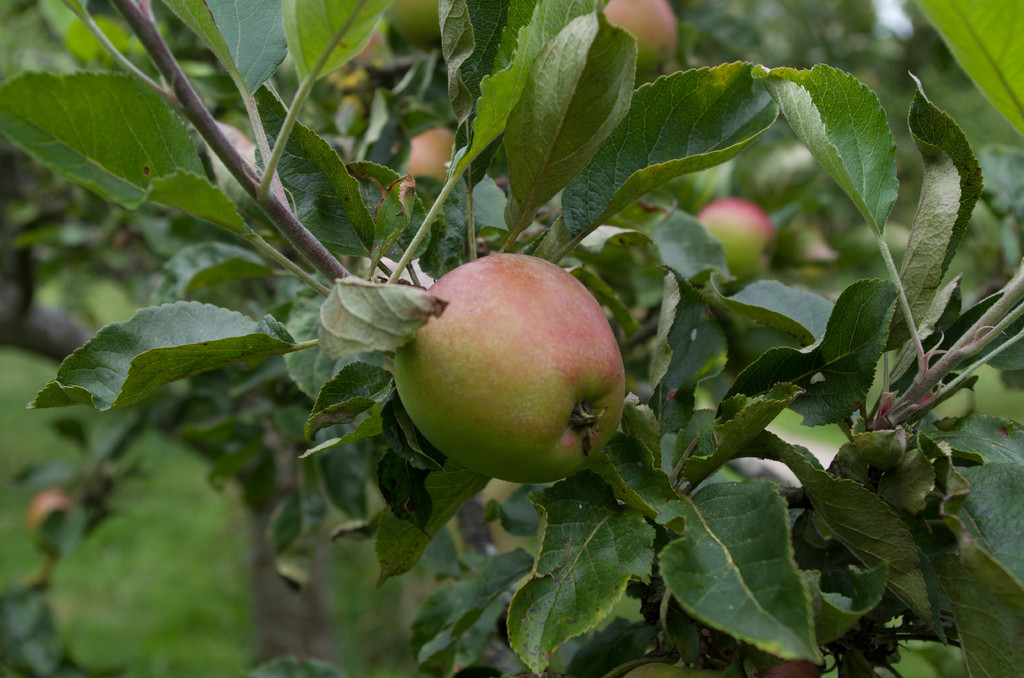Apple: (394, 258, 615, 478), (693, 196, 778, 291), (602, 0, 676, 70), (405, 128, 459, 182)
